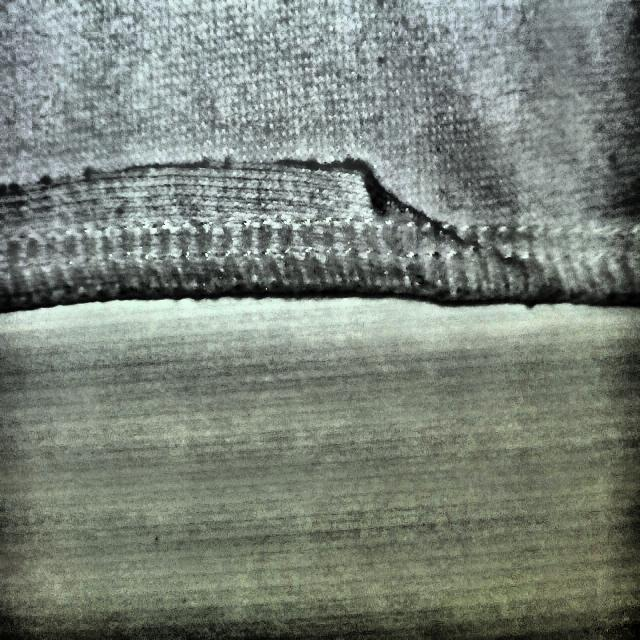seam: (0, 126, 431, 310)
